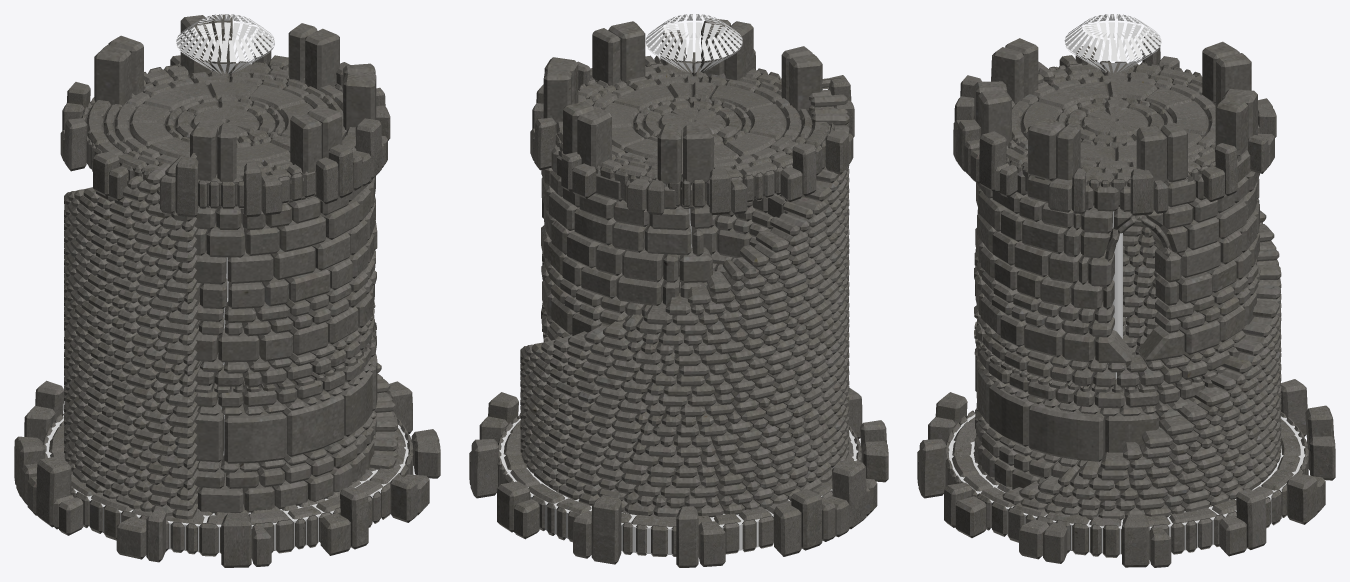
The model's file is tower 6.fbx.
3 renders of one model, left to right at view 1: azimuth 30°, elevation 25°; view 2: azimuth 150°, elevation 25°; view 3: azimuth 270°, elevation 25°, orthographic.
Visible parts, largest first — view 1: Wall.032, Wall.025, Wall.024, Diamond.002, Circle.006; view 2: Wall.032, Wall.025, Wall.024, Diamond.002, Circle.006; view 3: Wall.032, Wall.025, Wall.024, Diamond.002, Circle.006, Cylinder.005.
Boxes of the visible parts, x1,y1,x2,y2 form: Wall.032: [64, 14, 398, 519]; Wall.025: [60, 35, 390, 217]; Wall.024: [14, 380, 440, 567]; Diamond.002: [176, 14, 274, 73]; Circle.006: [45, 415, 408, 552]; Wall.032: [520, 18, 849, 517]; Wall.025: [530, 30, 854, 215]; Wall.024: [469, 388, 888, 567]; Diamond.002: [645, 14, 742, 72]; Circle.006: [499, 418, 858, 554]; Wall.032: [974, 38, 1281, 520]; Wall.025: [953, 36, 1276, 215]; Wall.024: [917, 379, 1335, 567]; Diamond.002: [1064, 14, 1161, 72]; Circle.006: [948, 414, 1306, 554]; Cylinder.005: [1108, 211, 1122, 378].
Bounding box in the file's own units: 2804 × 3342 × 2807.
